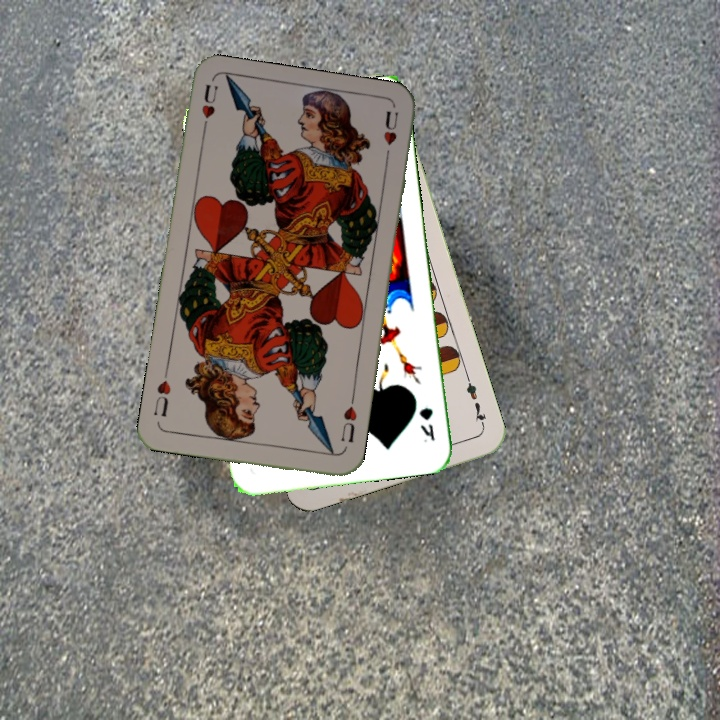E7: (462, 372, 489, 430)
GK: (415, 403, 438, 445)
HU: (197, 80, 220, 138), (337, 394, 360, 445)
